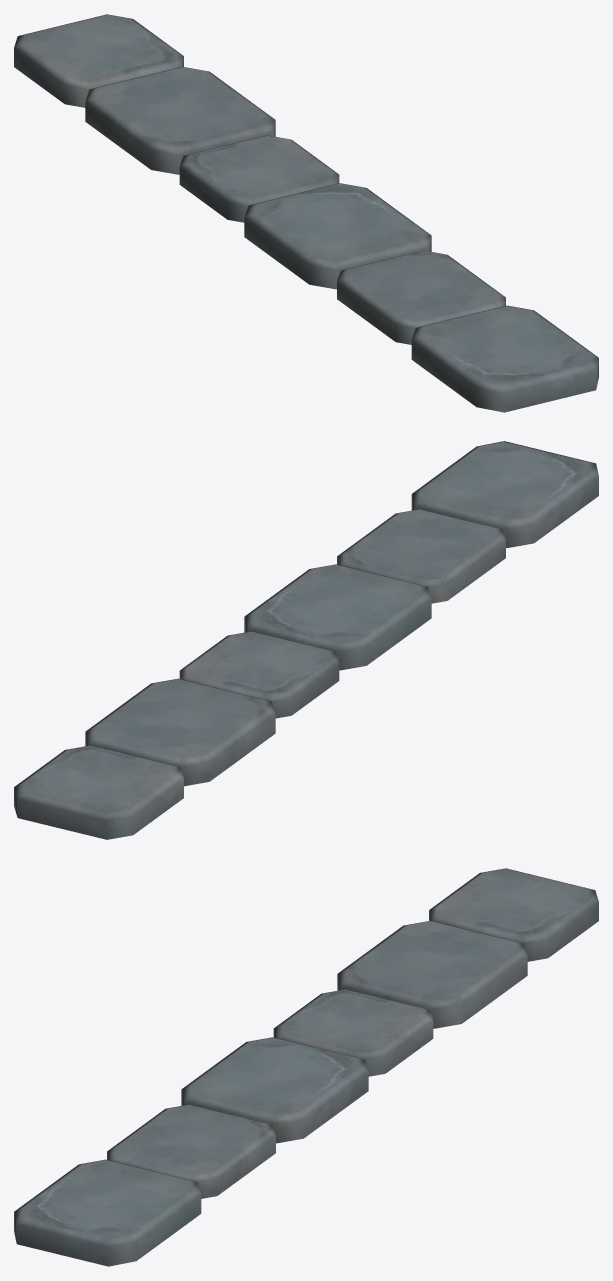
File: bricks_stone.fbx
3 renders of one model, top to bottom at view 1: azimuth 30°, elevation 25°; view 2: azimuth 150°, elevation 25°; view 3: azimuth 330°, elevation 25°, orthographic.
Visible parts, largest first — view 1: bricks_stone; view 2: bricks_stone; view 3: bricks_stone.
Boxes of the visible parts, left/top/right/bottom form: bricks_stone: left=14, top=14, right=598, bottom=412; bricks_stone: left=14, top=441, right=598, bottom=839; bricks_stone: left=14, top=868, right=598, bottom=1266.
Bounding box in the file's own units: 44.13 × 8.15 × 300.
